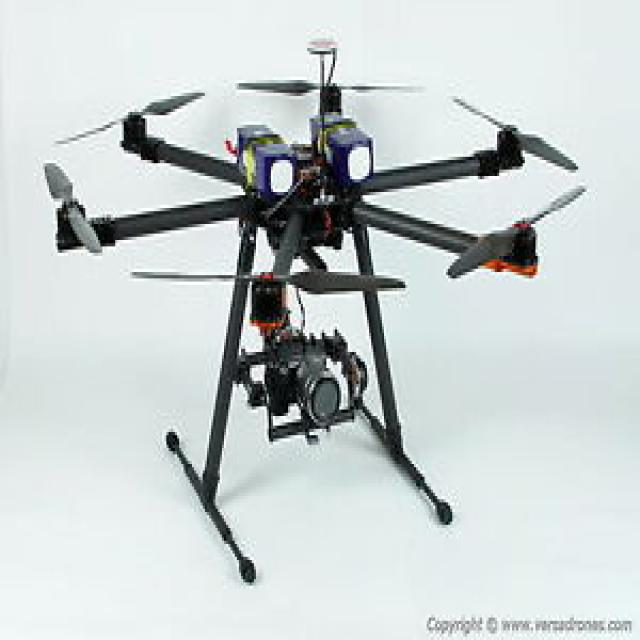drone: (12, 24, 613, 569)
